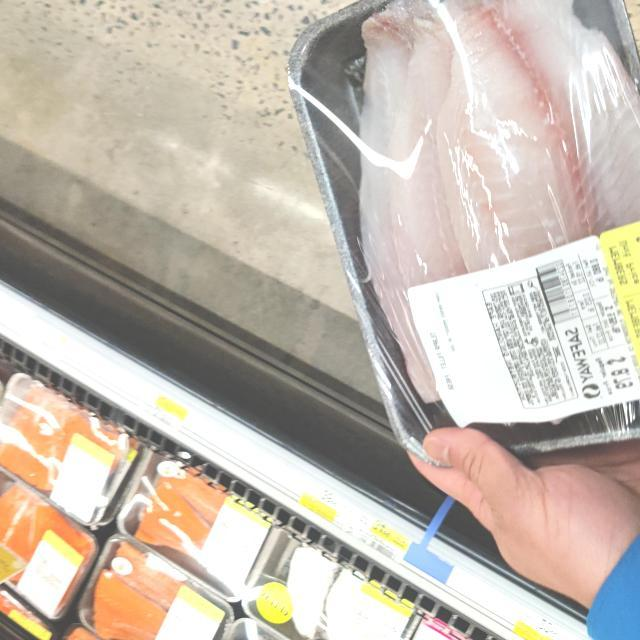Meat: (294, 0, 640, 456), (115, 464, 266, 598), (0, 374, 137, 520), (243, 527, 412, 640), (80, 532, 233, 640), (0, 468, 96, 624)
